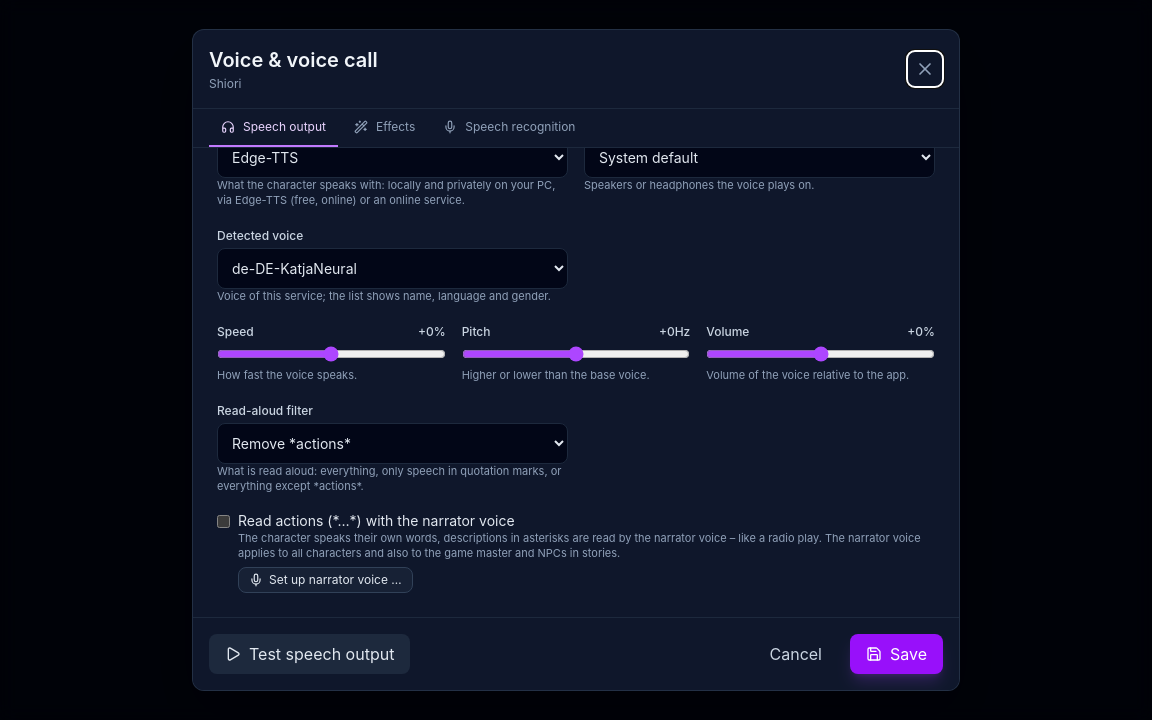
Test case: voice dialog › opens the narrator voice from the actions option
(page scrolled)
Click the button "Set up narrator voice …" at [325, 580], box [238,567,413,593]
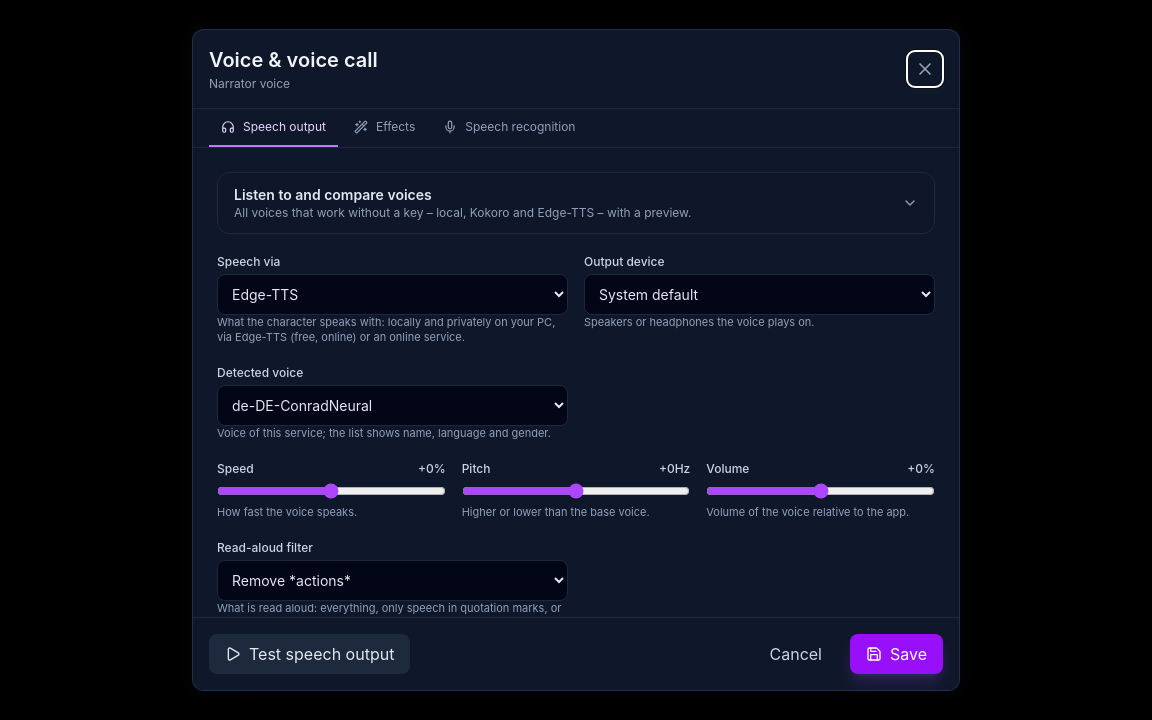
expect the number of dialogs is 2: met
expect the text "Narrator voice" is shown: met, box [209,76,290,91]
